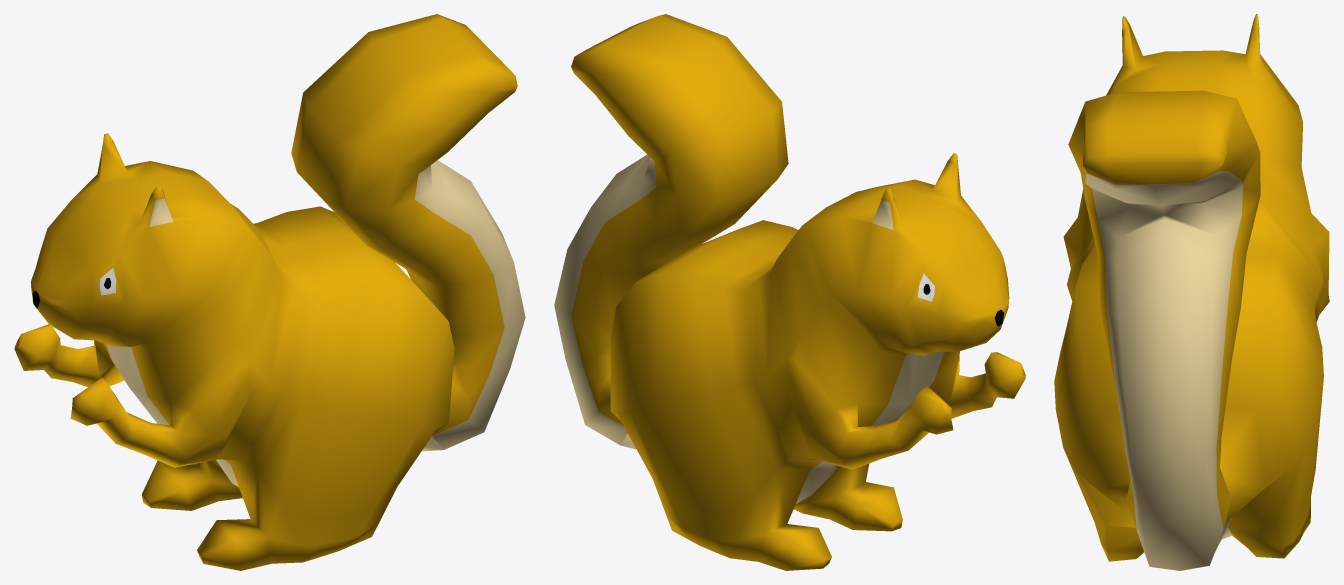
Rendered from ardilla.fbx.
3 renders of one model, left to right at view 1: azimuth 30°, elevation 25°; view 2: azimuth 150°, elevation 25°; view 3: azimuth 270°, elevation 25°, orthographic. The views are drawn at different scales.
Visible parts, largest first — view 1: ardilla; view 2: ardilla; view 3: ardilla.
Part boxes in pixels (box(x1,y1,x2,y2)): ardilla: box(14, 14, 525, 570); ardilla: box(554, 14, 1025, 570); ardilla: box(1054, 14, 1329, 570).
Bounding box in the file's own units: 973 × 937 × 460.
